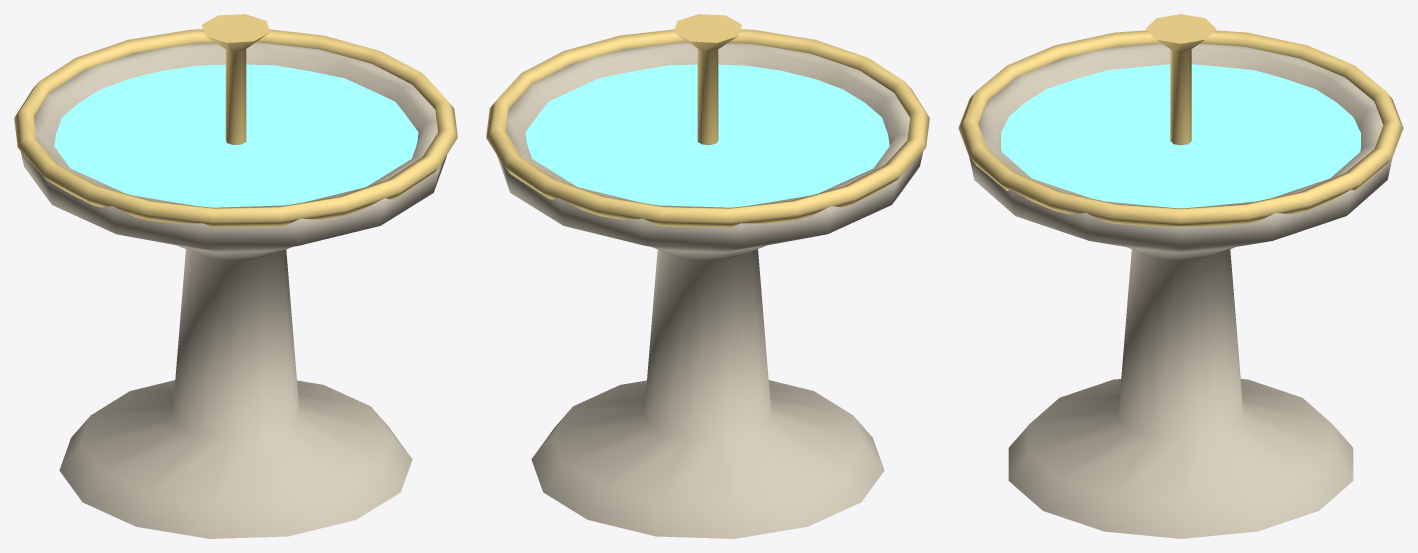
File: bb_font.glb
3 views of the same model, side by side, from view 1: azimuth 30°, elevation 25°; view 2: azimuth 150°, elevation 25°; view 3: azimuth 270°, elevation 25° (orthographic).
Parts seen in each view (by area): view 1: bb_font; view 2: bb_font; view 3: bb_font.
Part boxes in pixels (box(x1,y1,x2,y2)): bb_font: box(14, 14, 457, 538); bb_font: box(486, 14, 929, 538); bb_font: box(958, 14, 1403, 538).
Bounding box in the file's own units: 1.26 × 1.36 × 1.26.
